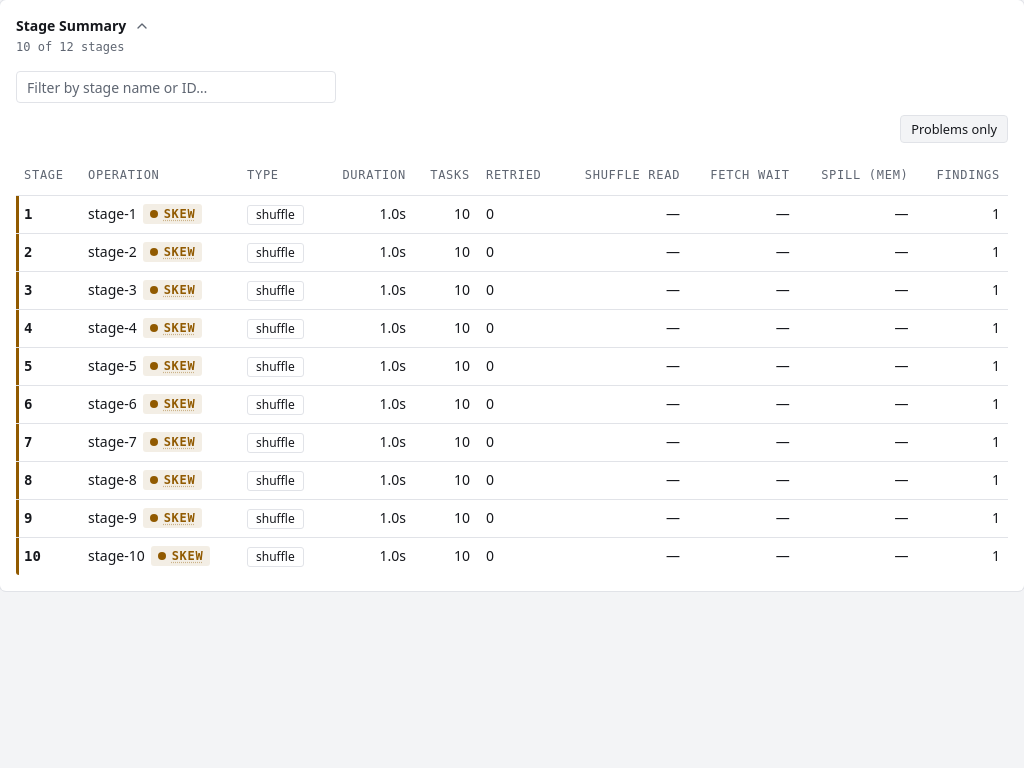
Test: StageTable › paginates when there are more than 10 stages
# Default is top-10 view, toggle to problems-only to see all 12 flagged stages
Click the button "Problems only". click: click(954, 129)
box: [900,115,1008,143]
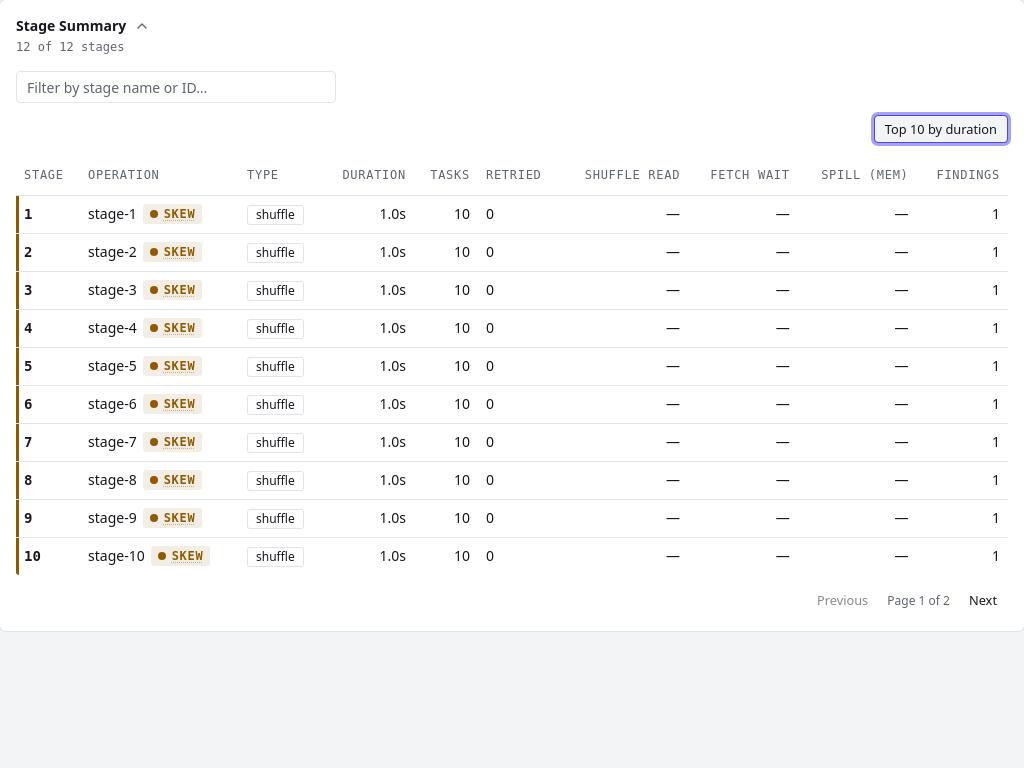
Result: the text "Page 1 of 2" is shown at [887,593,950,609]
Result: the button "Previous" is disabled at [806,587,879,615]
Result: the button "Next" is enabled
Click the button "Next". click: click(983, 601)
box: [958,587,1008,615]
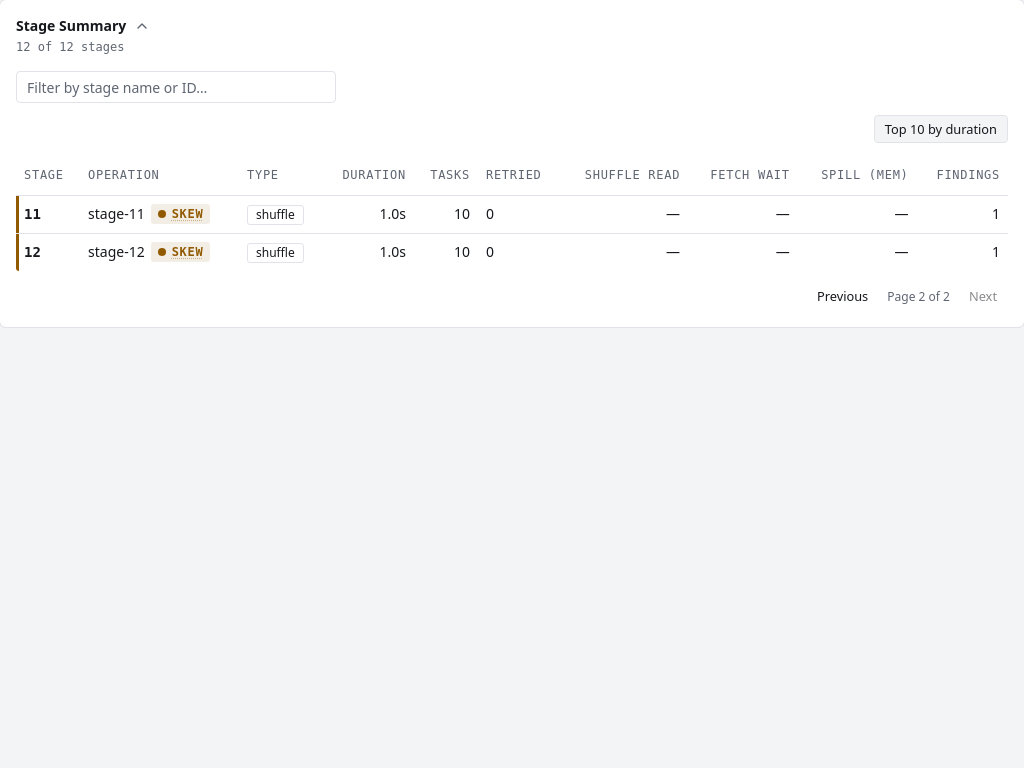
Result: the text "Page 2 of 2" is shown at [887,289,950,305]
Result: the number of rows is 3 at [16,155,1008,195]; [16,195,1008,233]; [16,233,1008,271]
Result: the button "Previous" is enabled
Click the button "Previous". click: click(843, 297)
box: [806,283,879,311]
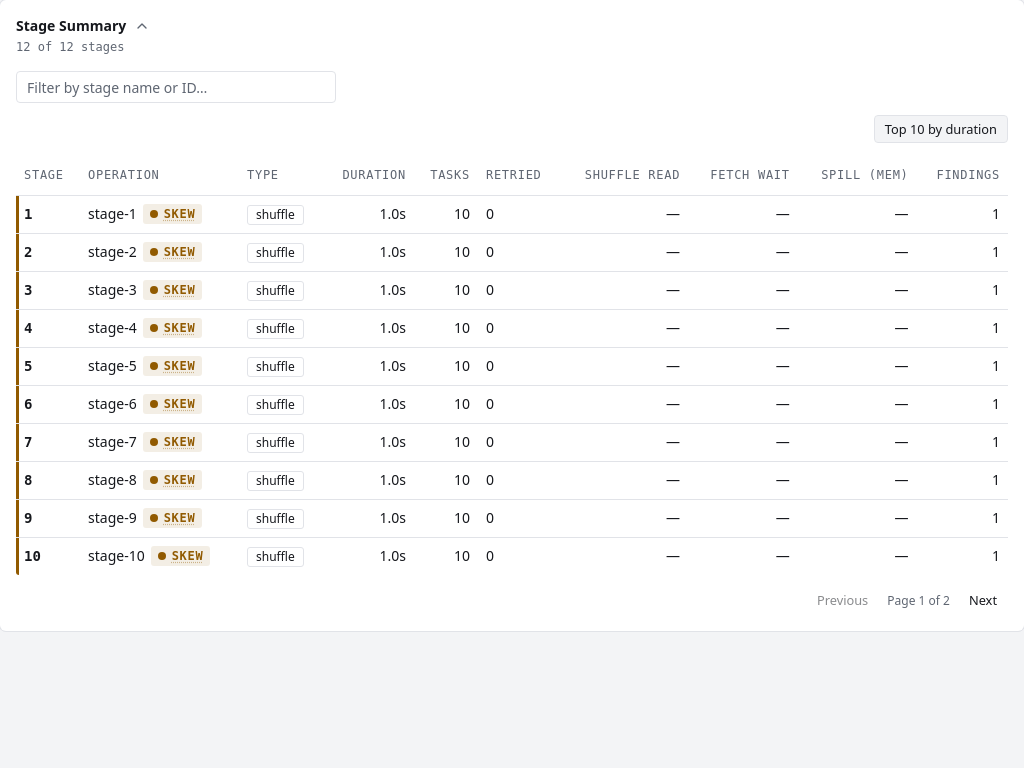
Result: the text "Page 1 of 2" is shown at [887,593,950,609]
Result: the button "Previous" is disabled at [806,587,879,615]
